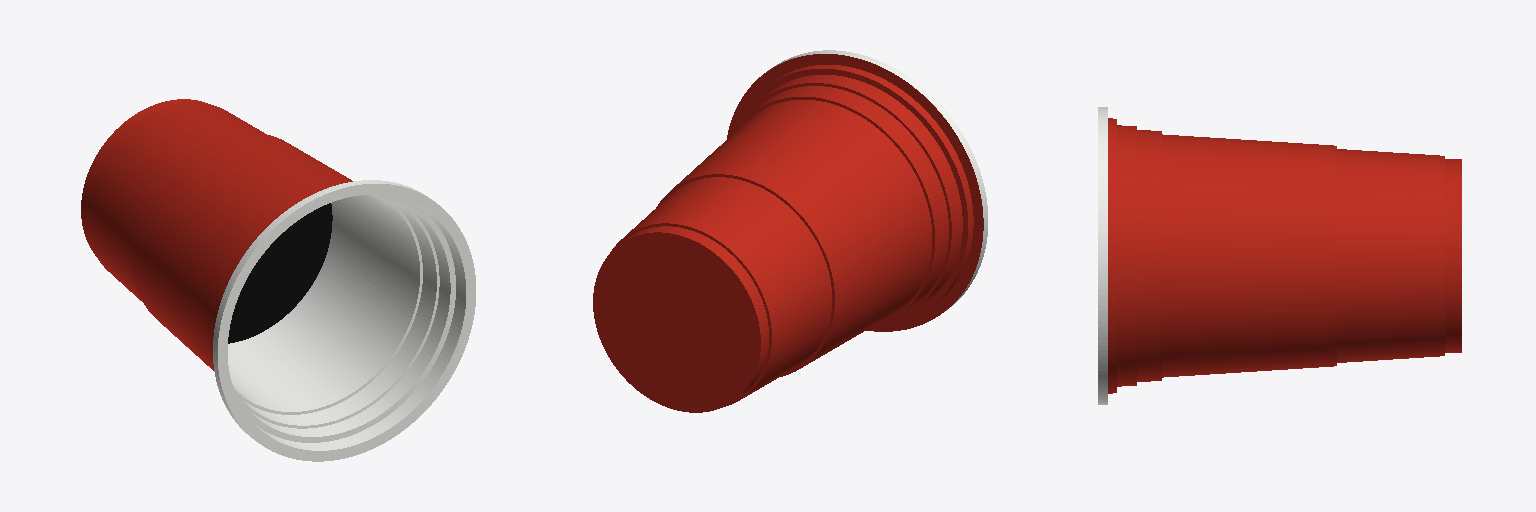
The model's file is cup_red_filled.obj.
3 renders of one model, left to right at view 1: azimuth 30°, elevation 25°; view 2: azimuth 150°, elevation 25°; view 3: azimuth 270°, elevation 25°, orthographic.
Parts seen in each view (by area): view 1: Body1; view 2: Body1; view 3: Body1.
Part boxes in pixels (x1,y1,x2,y2): Body1: (81,99,475,461); Body1: (593,50,987,412); Body1: (1098,107,1461,404).
Size of the model in its own units: 0.094 by 0.094 by 0.1145.